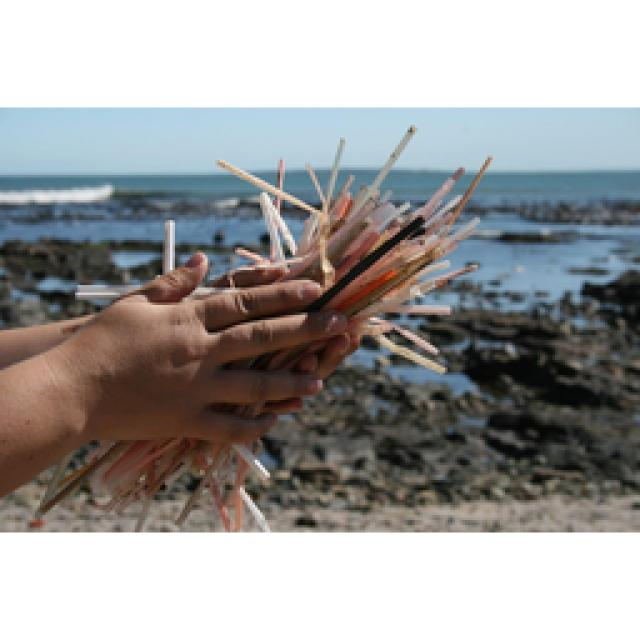plastic: (212, 125, 488, 370), (30, 440, 268, 530), (78, 285, 118, 298), (162, 220, 172, 268)
